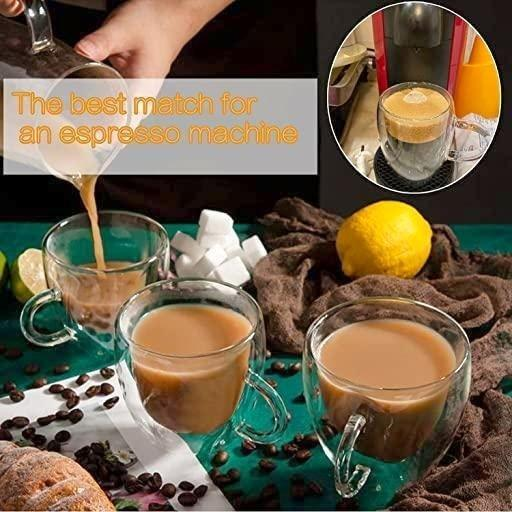glass-mug: (298, 293, 485, 512), (112, 272, 293, 458), (18, 206, 178, 358), (375, 79, 493, 185)
